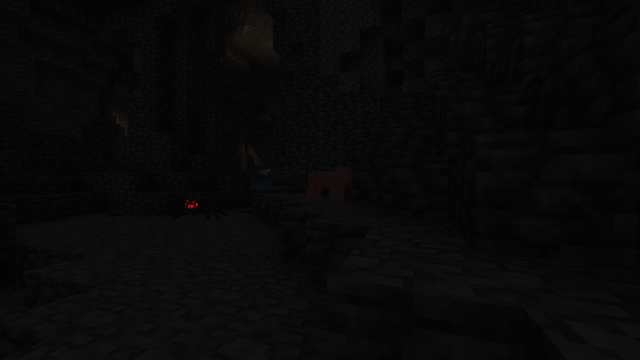araignees: (173, 195, 224, 220)
cochons: (307, 170, 344, 201)
